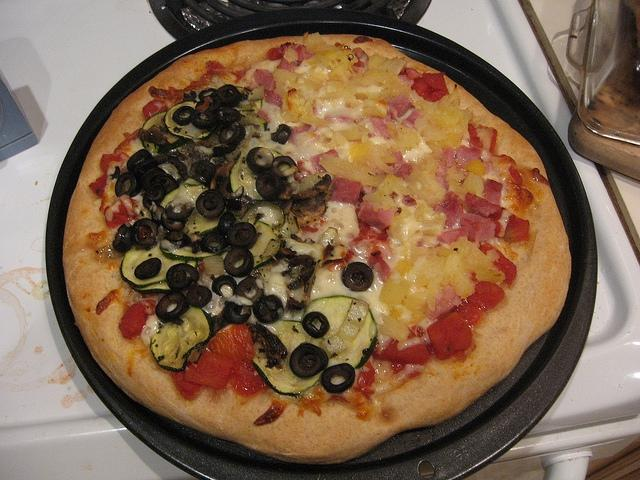tomato: (427, 312, 472, 360), (186, 350, 237, 389), (206, 324, 255, 360), (478, 243, 516, 286), (373, 340, 430, 366), (465, 280, 505, 310), (169, 370, 206, 400), (119, 304, 147, 340), (330, 178, 361, 206), (502, 214, 530, 244), (104, 200, 130, 230), (451, 303, 482, 327), (231, 374, 268, 394), (422, 72, 450, 94), (142, 100, 168, 120), (357, 361, 376, 388), (100, 153, 124, 174), (508, 156, 523, 188), (411, 77, 432, 99), (89, 174, 108, 197), (468, 123, 483, 148), (207, 62, 225, 77), (267, 48, 283, 60), (197, 263, 206, 275), (302, 227, 318, 232)
